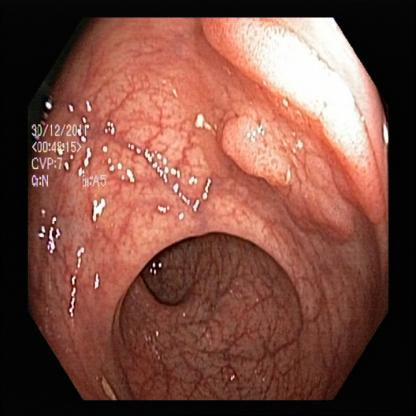Labels: (30, 123, 117, 195)
Polyps: (226, 105, 302, 204)
